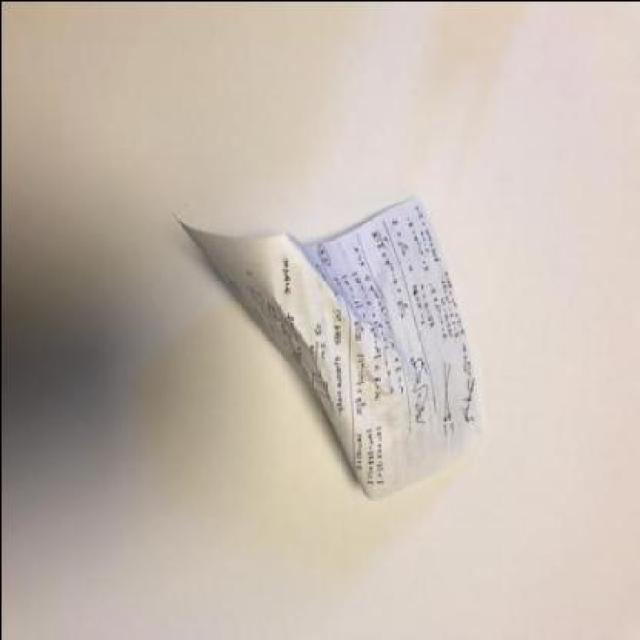PAPER: (173, 195, 484, 497)
